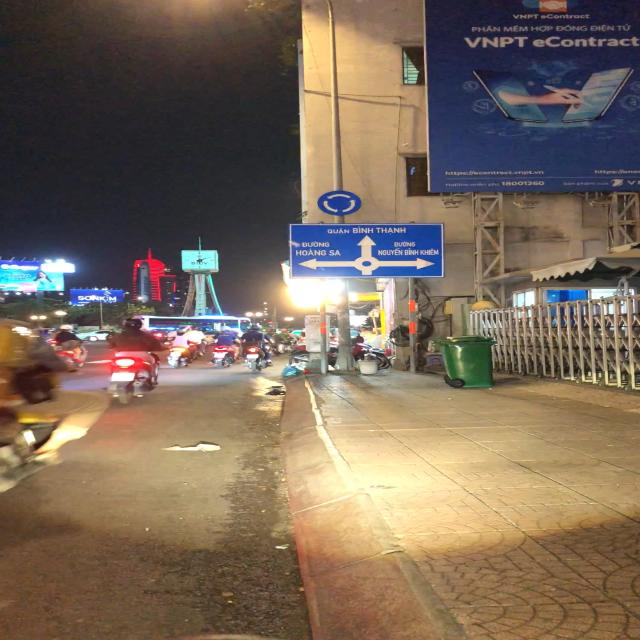Bien bao noi giao nhau chay theo vong xuyen: (314, 190, 364, 218)
